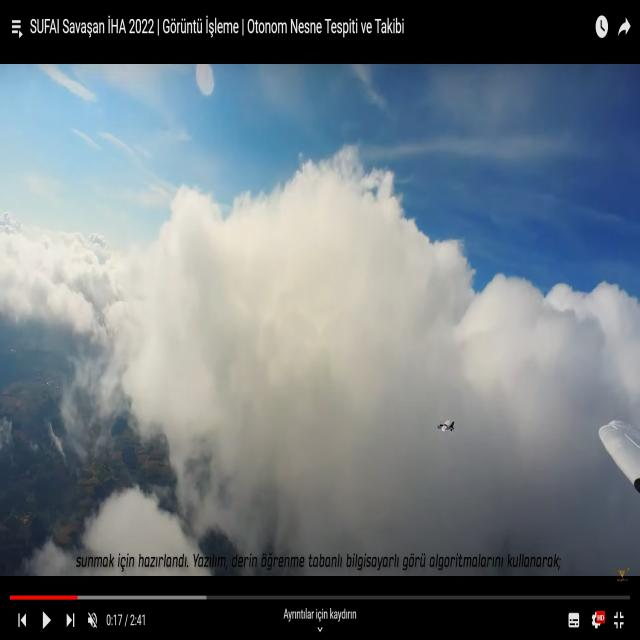iha: (436, 418, 456, 437)
